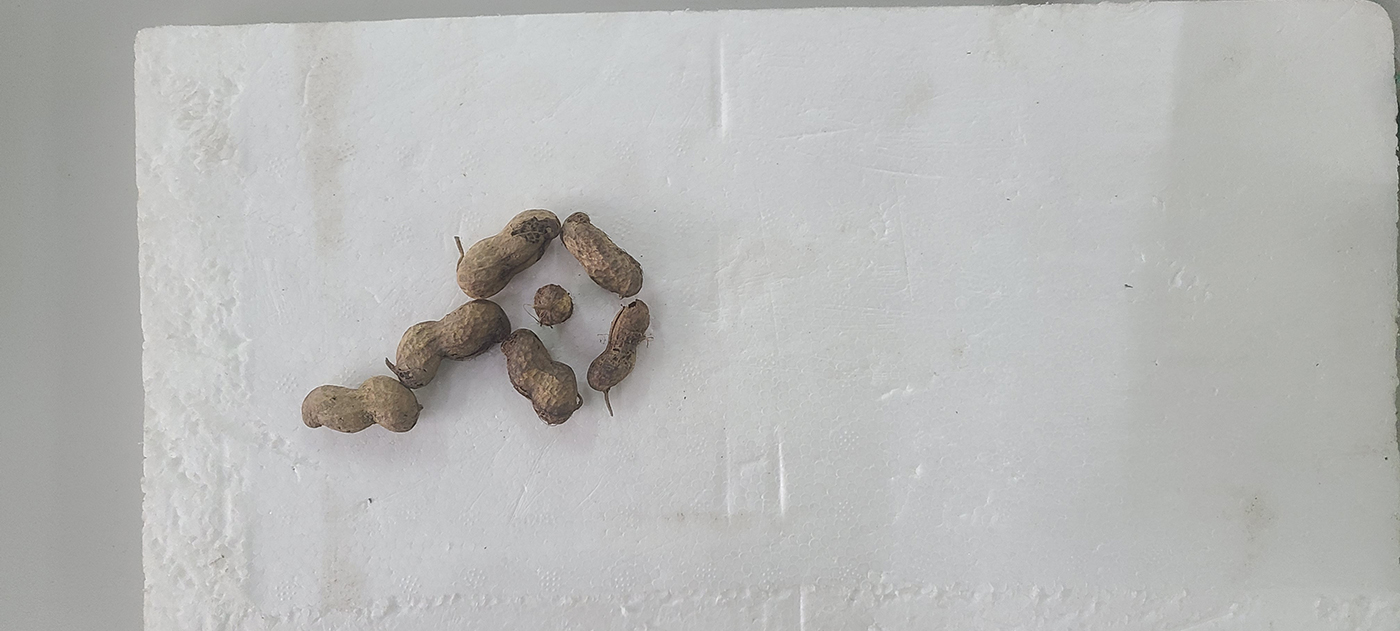l: (452, 209, 560, 299), (396, 302, 511, 385), (501, 329, 578, 424), (561, 212, 644, 297), (300, 374, 420, 432), (585, 298, 650, 394), (534, 284, 574, 327)
